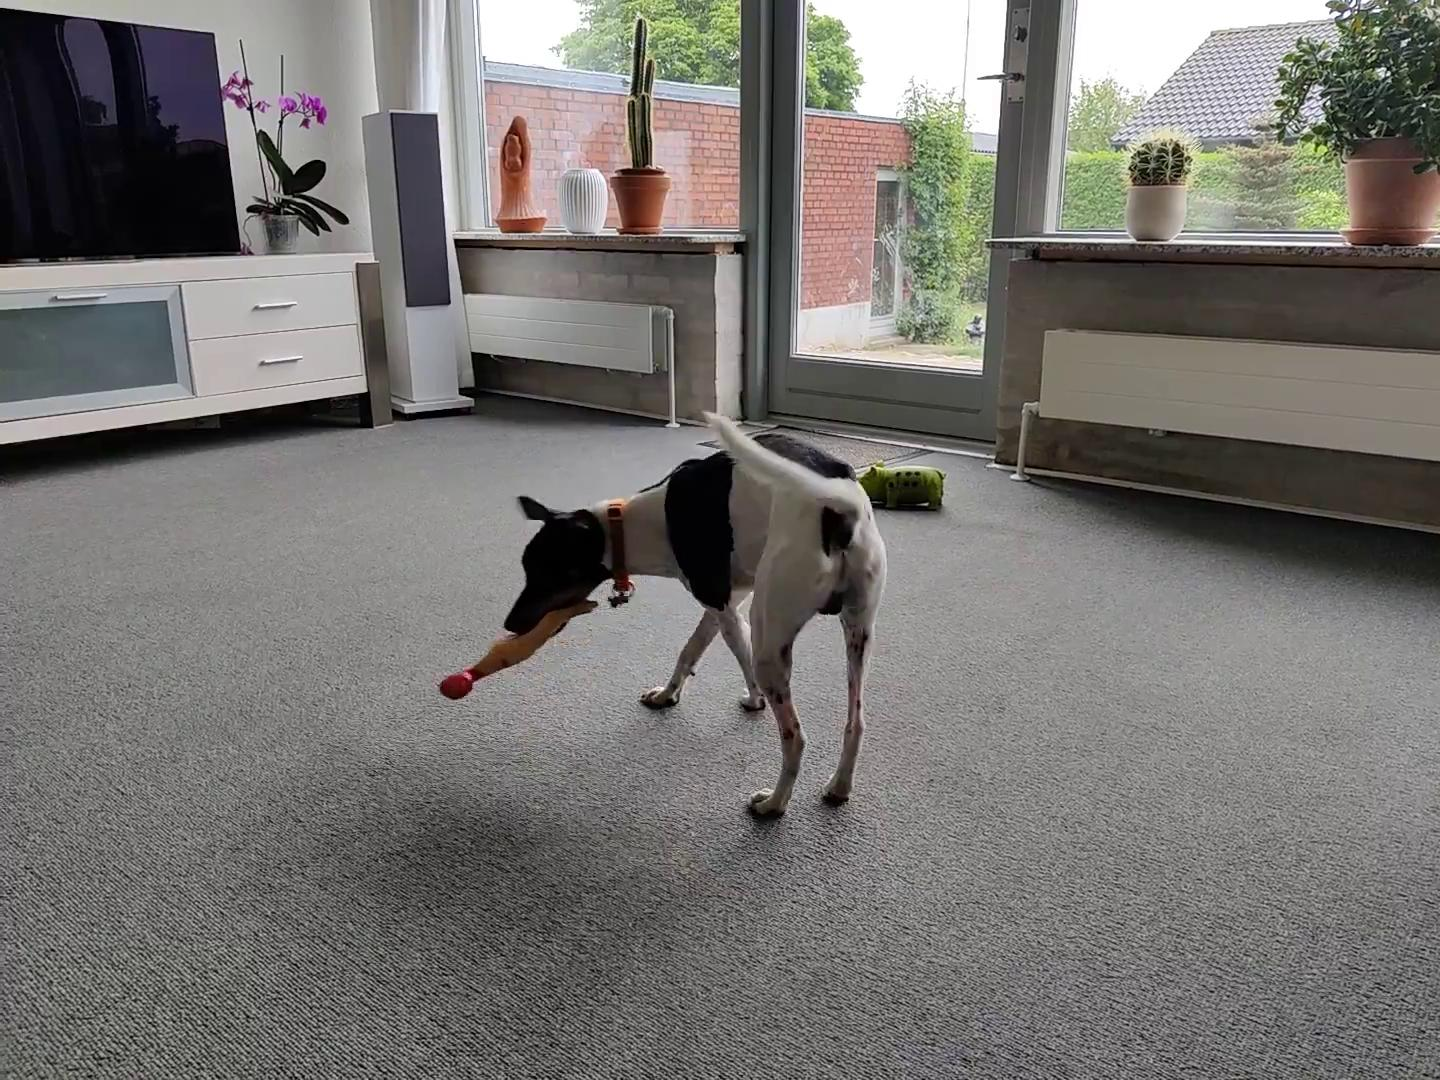Dog: (499, 403, 889, 822)
